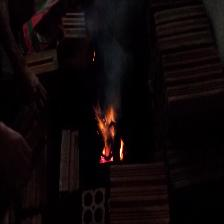fire: (99, 107, 125, 163)
smoke: (97, 4, 126, 103)
